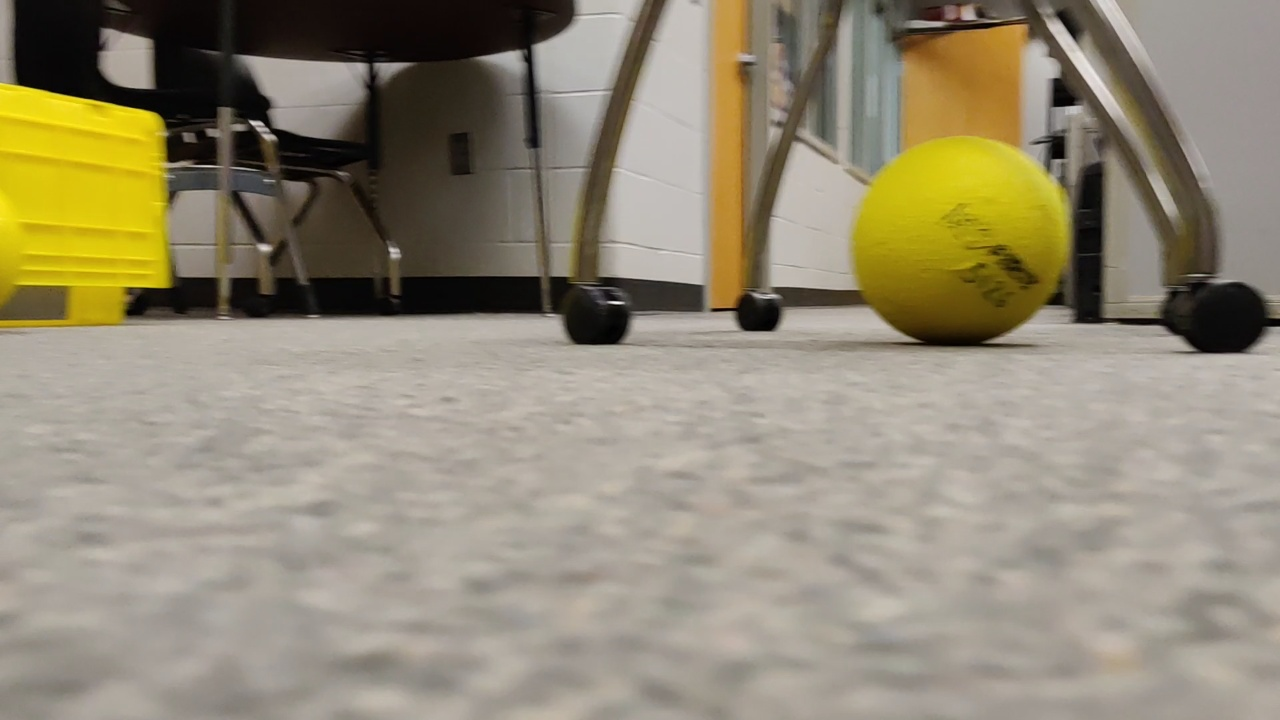Ball: (839, 132, 1084, 364), (1, 200, 30, 291)
